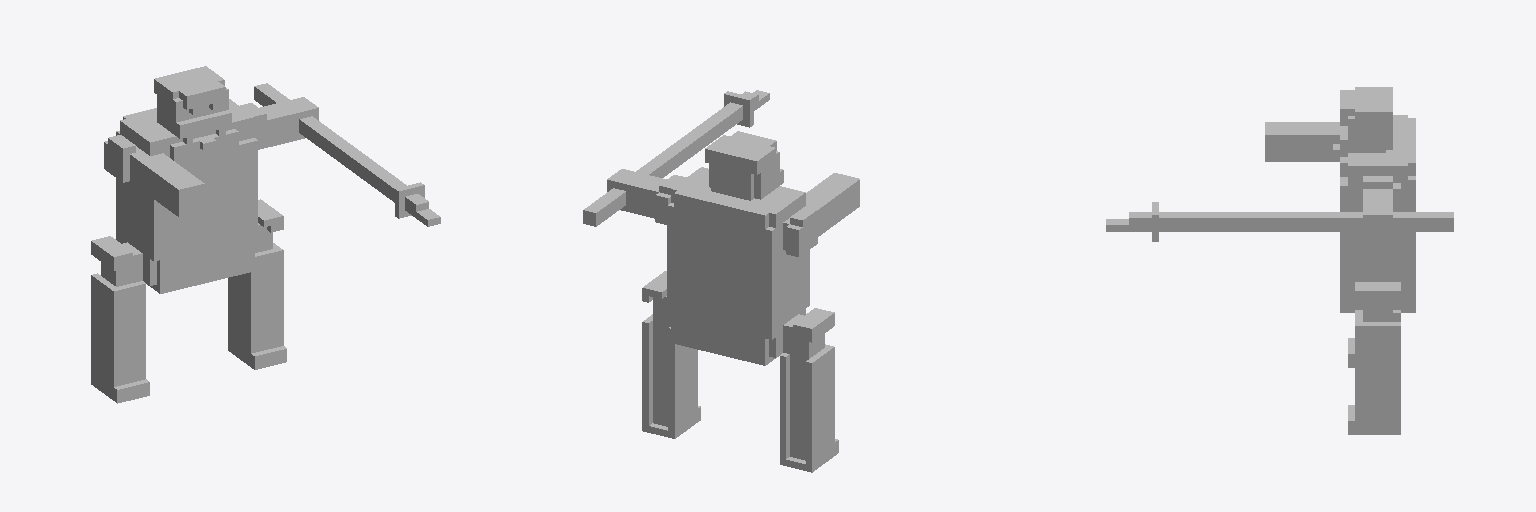
The model's file is cavalaria.obj.
3 renders of one model, left to right at view 1: azimuth 30°, elevation 25°; view 2: azimuth 150°, elevation 25°; view 3: azimuth 270°, elevation 25°, orthographic.
Bounding box in the file's own units: 32 × 43 × 46.